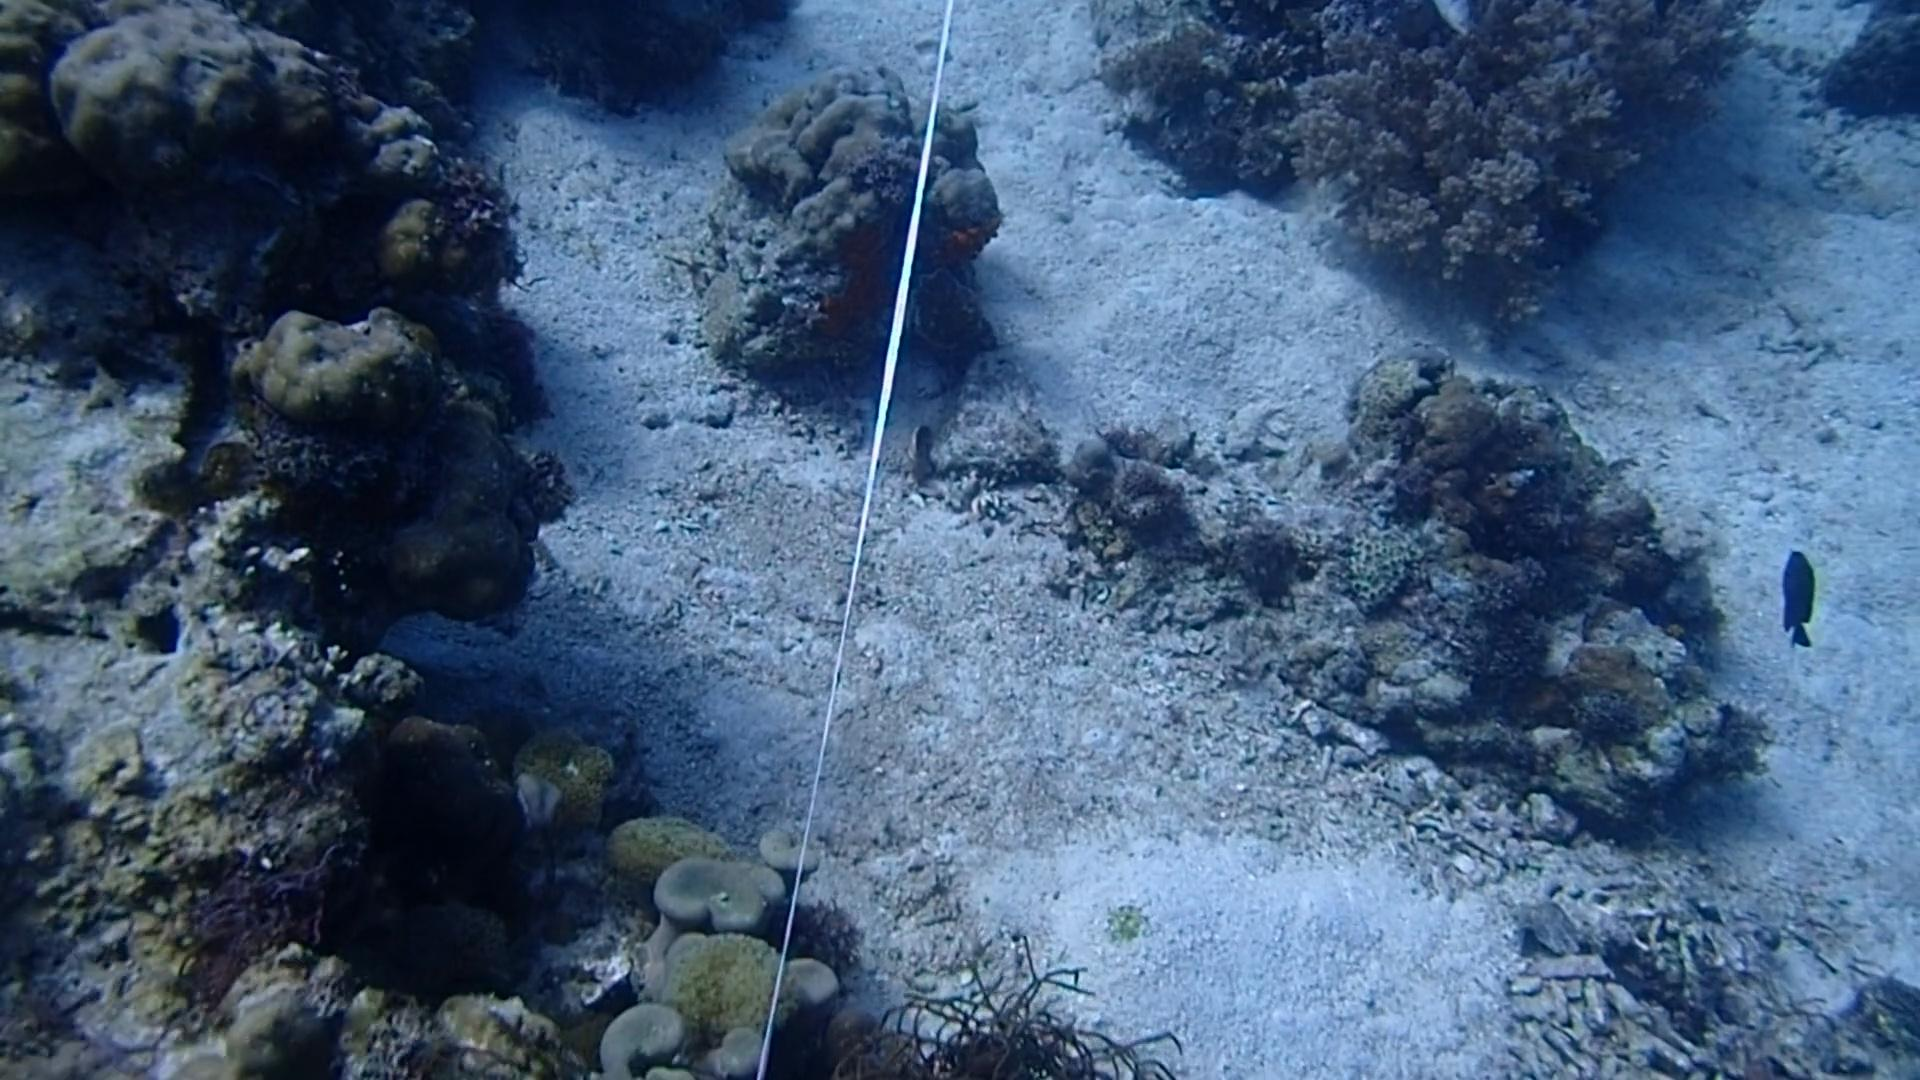Dark Fish: (1762, 543, 1817, 647)
